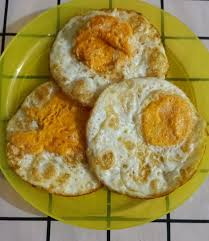Telur ceplok: (86, 77, 207, 199), (5, 80, 90, 196), (51, 8, 170, 85)
